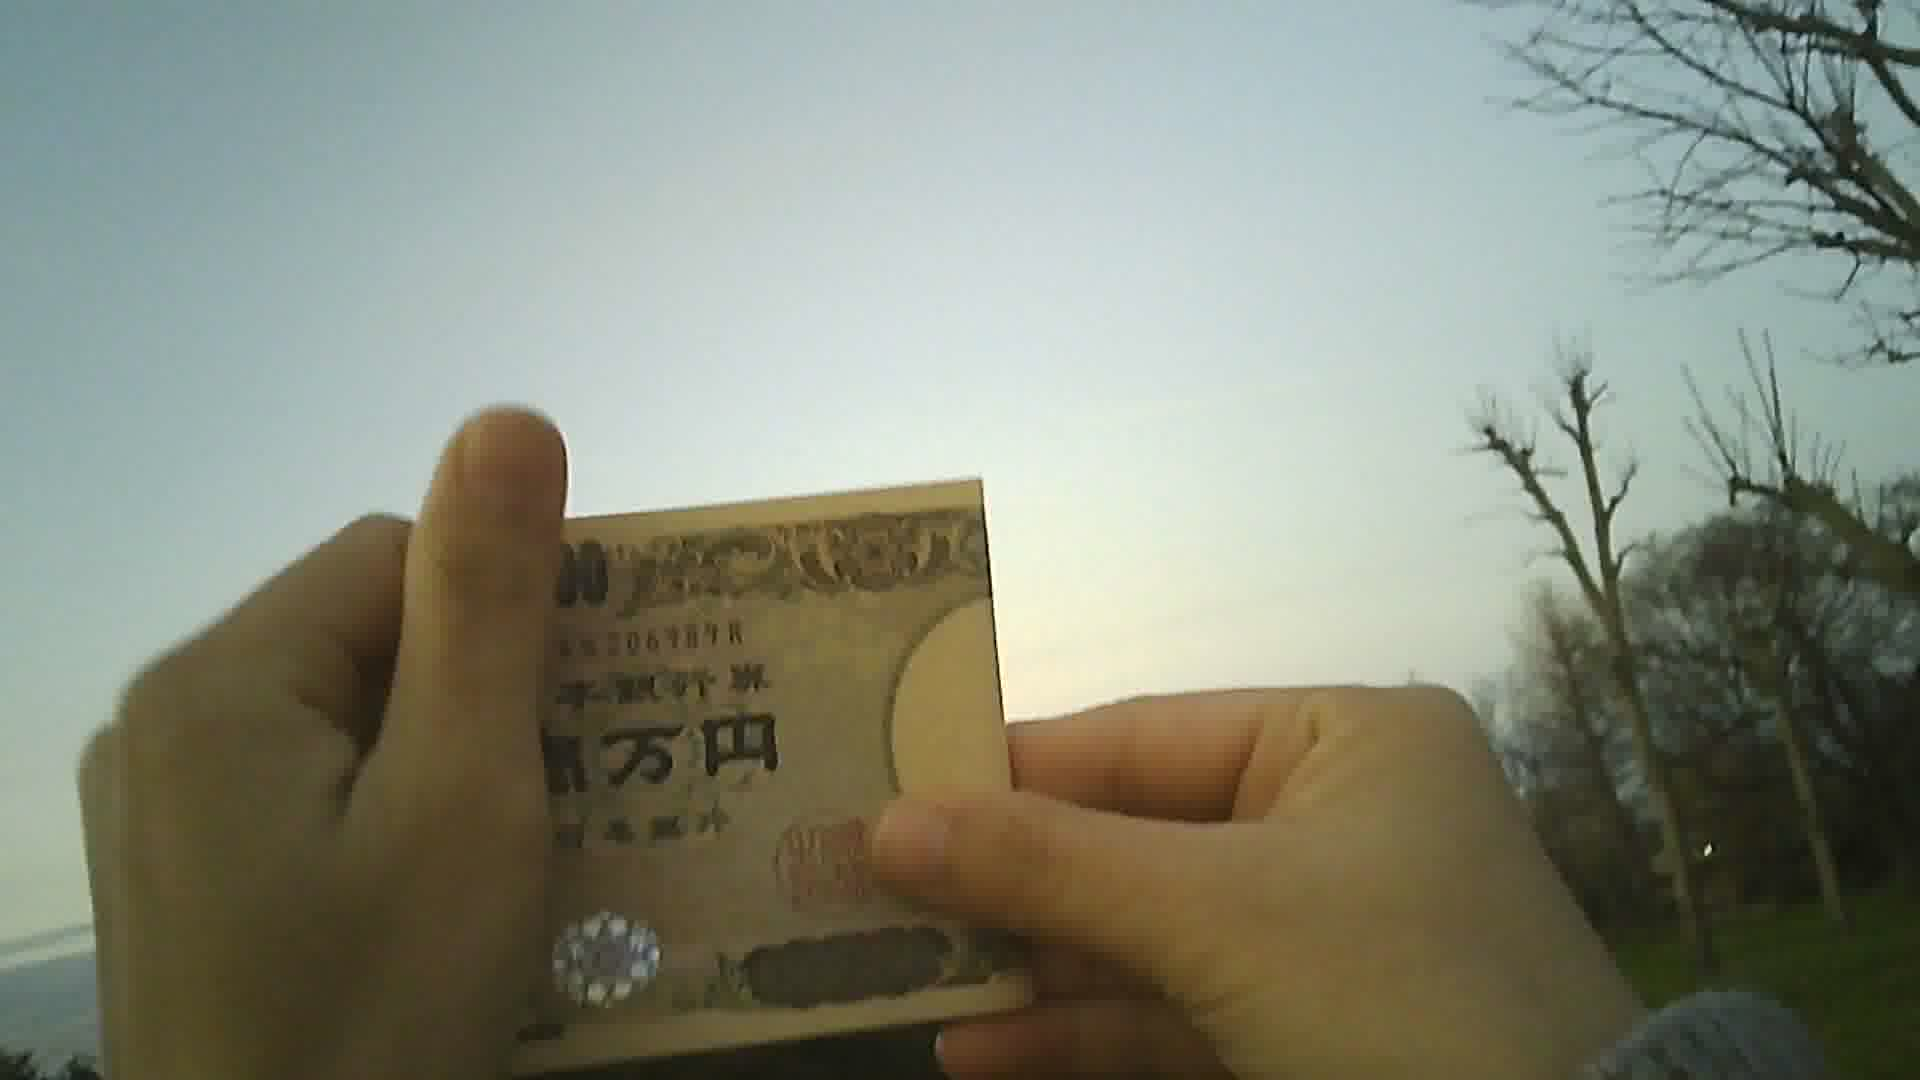10,000 Yen: (423, 472, 1058, 1079)
